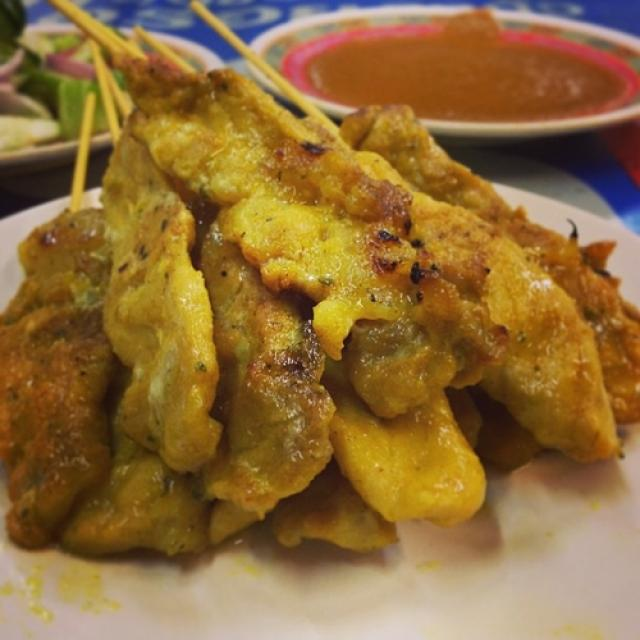牛肉菜式: (12, 18, 620, 594)
